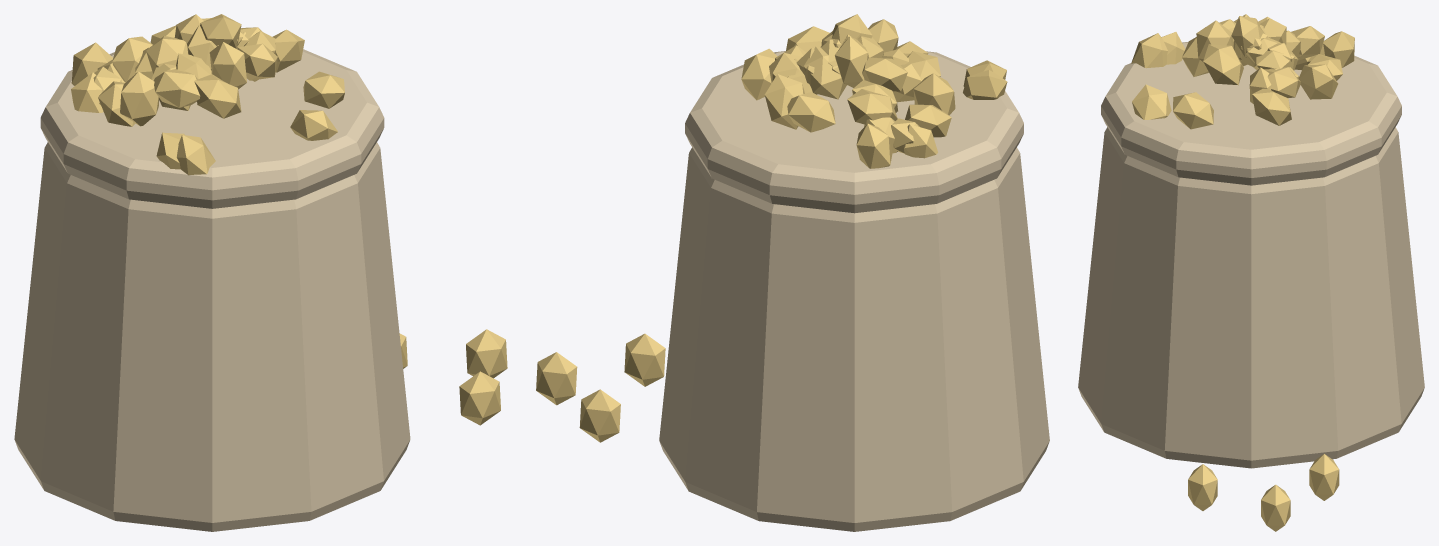
Rendered from semente.glb.
The picture shows the model from 3 angles, left to right: view 1: azimuth 30°, elevation 25°; view 2: azimuth 150°, elevation 25°; view 3: azimuth 270°, elevation 25°; orthographic projection. The views are drawn at different scales.
Visible parts, largest first — view 1: agro_semente_00; view 2: agro_semente_00; view 3: agro_semente_00.
Part boxes in pixels (<box>): agro_semente_00: <box>14,14,507,531</box>; agro_semente_00: <box>536,14,1049,531</box>; agro_semente_00: <box>1078,14,1424,531</box>.
Size of the model in its own units: 0.9974 by 0.8972 by 0.7144.
